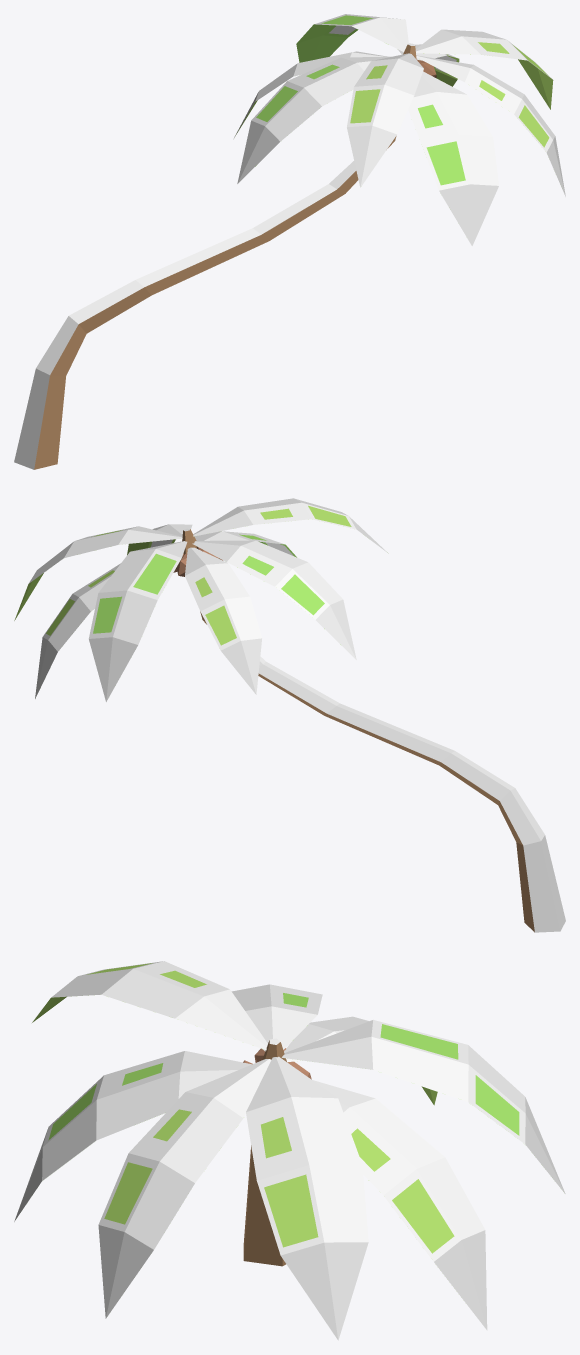
Rendered from Palm_Tree_Coconut_m_Snow_BT_05.fbx.
3 renders of one model, top to bottom at view 1: azimuth 30°, elevation 25°; view 2: azimuth 150°, elevation 25°; view 3: azimuth 270°, elevation 25°, orthographic. The views are drawn at different scales.
Parts seen in each view (by area): view 1: Palm_Tree_Coconut_m_Snow_BT_05; view 2: Palm_Tree_Coconut_m_Snow_BT_05; view 3: Palm_Tree_Coconut_m_Snow_BT_05.
Part boxes in pixels (x1,y1,x2,y2): Palm_Tree_Coconut_m_Snow_BT_05: (14, 14, 565, 469); Palm_Tree_Coconut_m_Snow_BT_05: (14, 498, 565, 932); Palm_Tree_Coconut_m_Snow_BT_05: (14, 961, 565, 1340).
Size of the model in its own units: 581 by 336 by 332.
